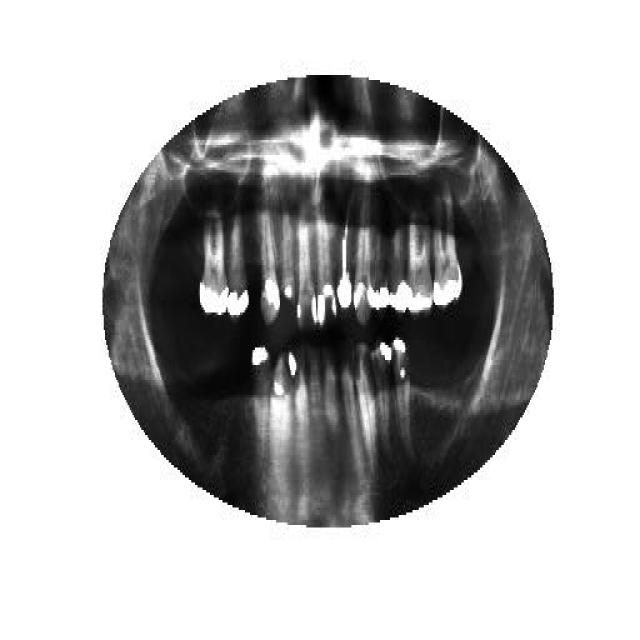Cavity: (352, 340, 377, 470)
Fillings: (432, 188, 462, 308), (199, 212, 229, 318), (258, 205, 280, 327), (252, 345, 272, 470), (392, 335, 412, 455), (228, 213, 250, 315), (375, 335, 394, 453), (409, 218, 431, 312), (367, 218, 388, 310), (388, 225, 408, 313)
Implant: (338, 222, 353, 308)
